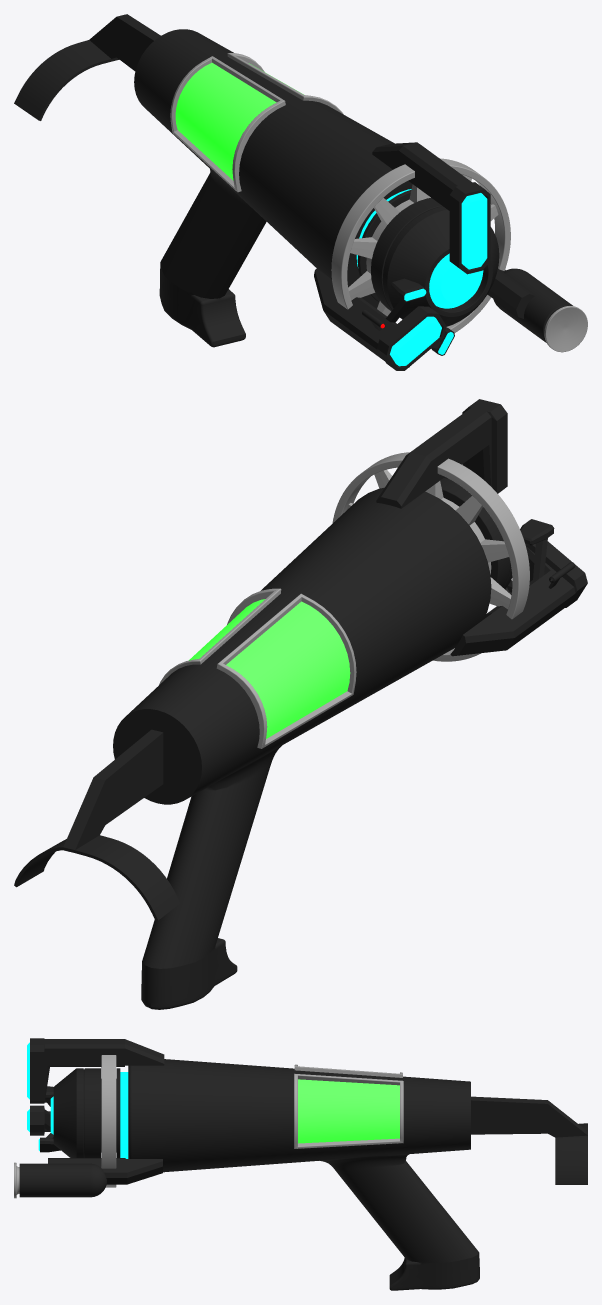
The model's file is Lost Robot Multi Tool.fbx.
3 renders of one model, top to bottom at view 1: azimuth 30°, elevation 25°; view 2: azimuth 150°, elevation 25°; view 3: azimuth 270°, elevation 25°, orthographic. The views are drawn at different scales.
Parts seen in each view (by area): view 1: pCylinder10, pTorus3, pCylinder7, pCube1, pCylinder4, pCylinder3; view 2: pCylinder10, pCube1, pTorus3, pCylinder7; view 3: pCylinder10, pCylinder4, pCube1, pTorus3, pCylinder7.
Part boxes in pixels (box(x1,y1,x2,y2)): pCylinder10: box(14, 14, 499, 347); pTorus3: box(331, 158, 510, 333); pCylinder7: box(314, 268, 454, 370); pCube1: box(372, 142, 490, 274); pCylinder4: box(487, 268, 572, 342); pCylinder3: box(544, 306, 587, 352); pCylinder10: box(14, 477, 512, 1009); pCube1: box(376, 399, 507, 508); pTorus3: box(332, 452, 529, 661); pCylinder7: box(450, 519, 587, 656); pCylinder10: box(50, 1059, 587, 1290); pCylinder4: box(19, 1158, 162, 1197); pCube1: box(27, 1038, 164, 1103); pTorus3: box(101, 1055, 116, 1187); pCylinder7: box(27, 1086, 60, 1152).
Size of the model in its own units: 10.41 by 17.38 by 37.05.
